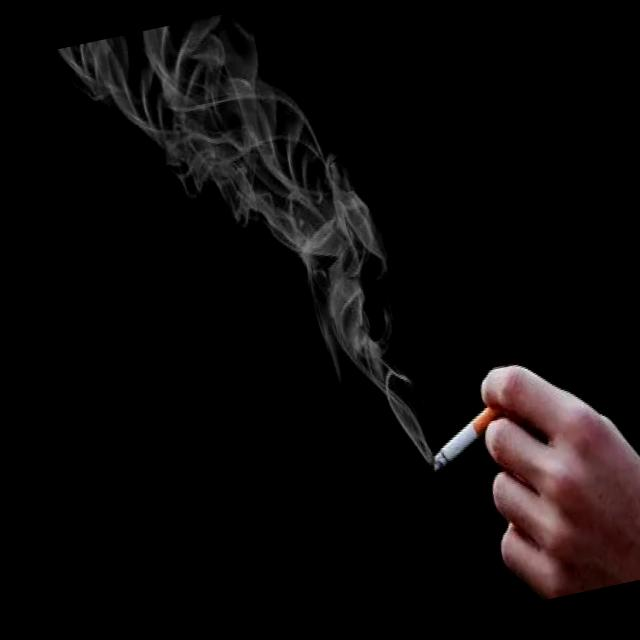cigarette: (418, 391, 518, 478)
